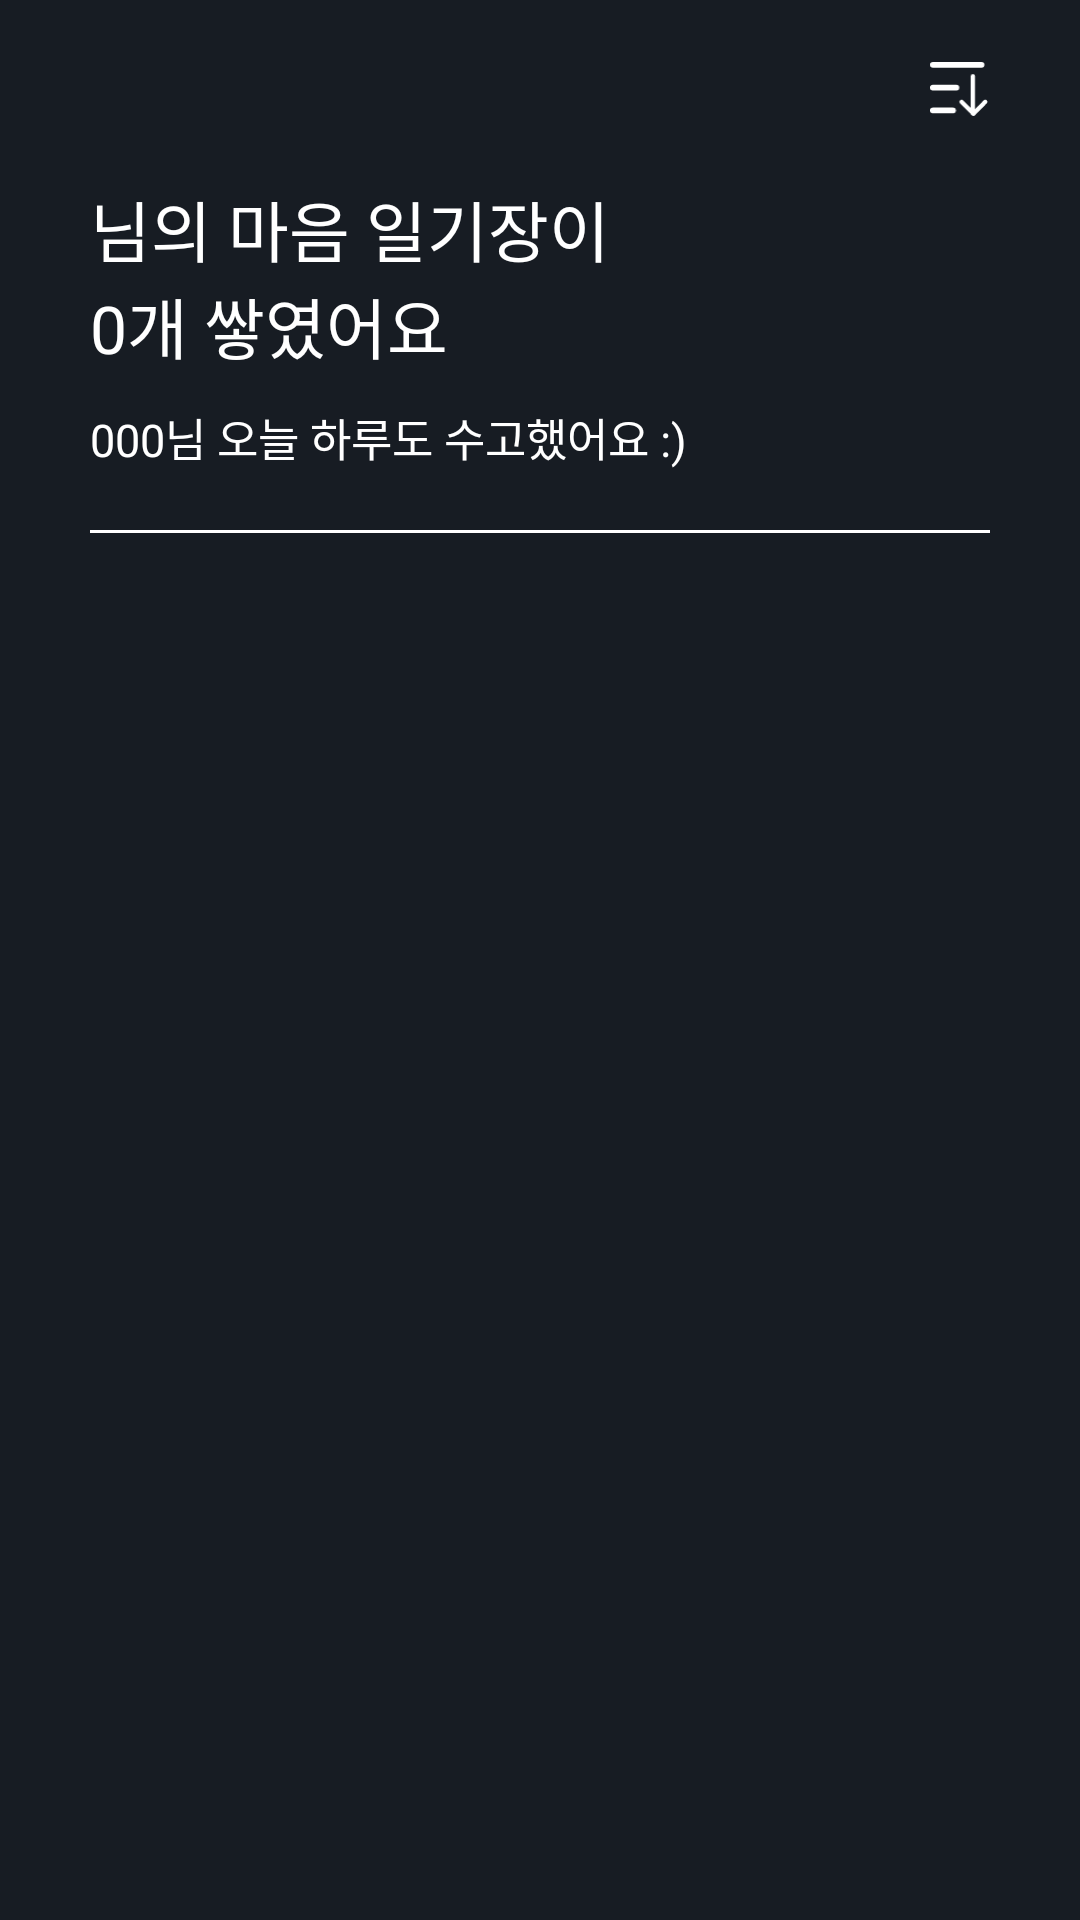

Icon click points for this 1080w x 1920h phone screenshot, format point (x, y):
sort: point (959, 89)
